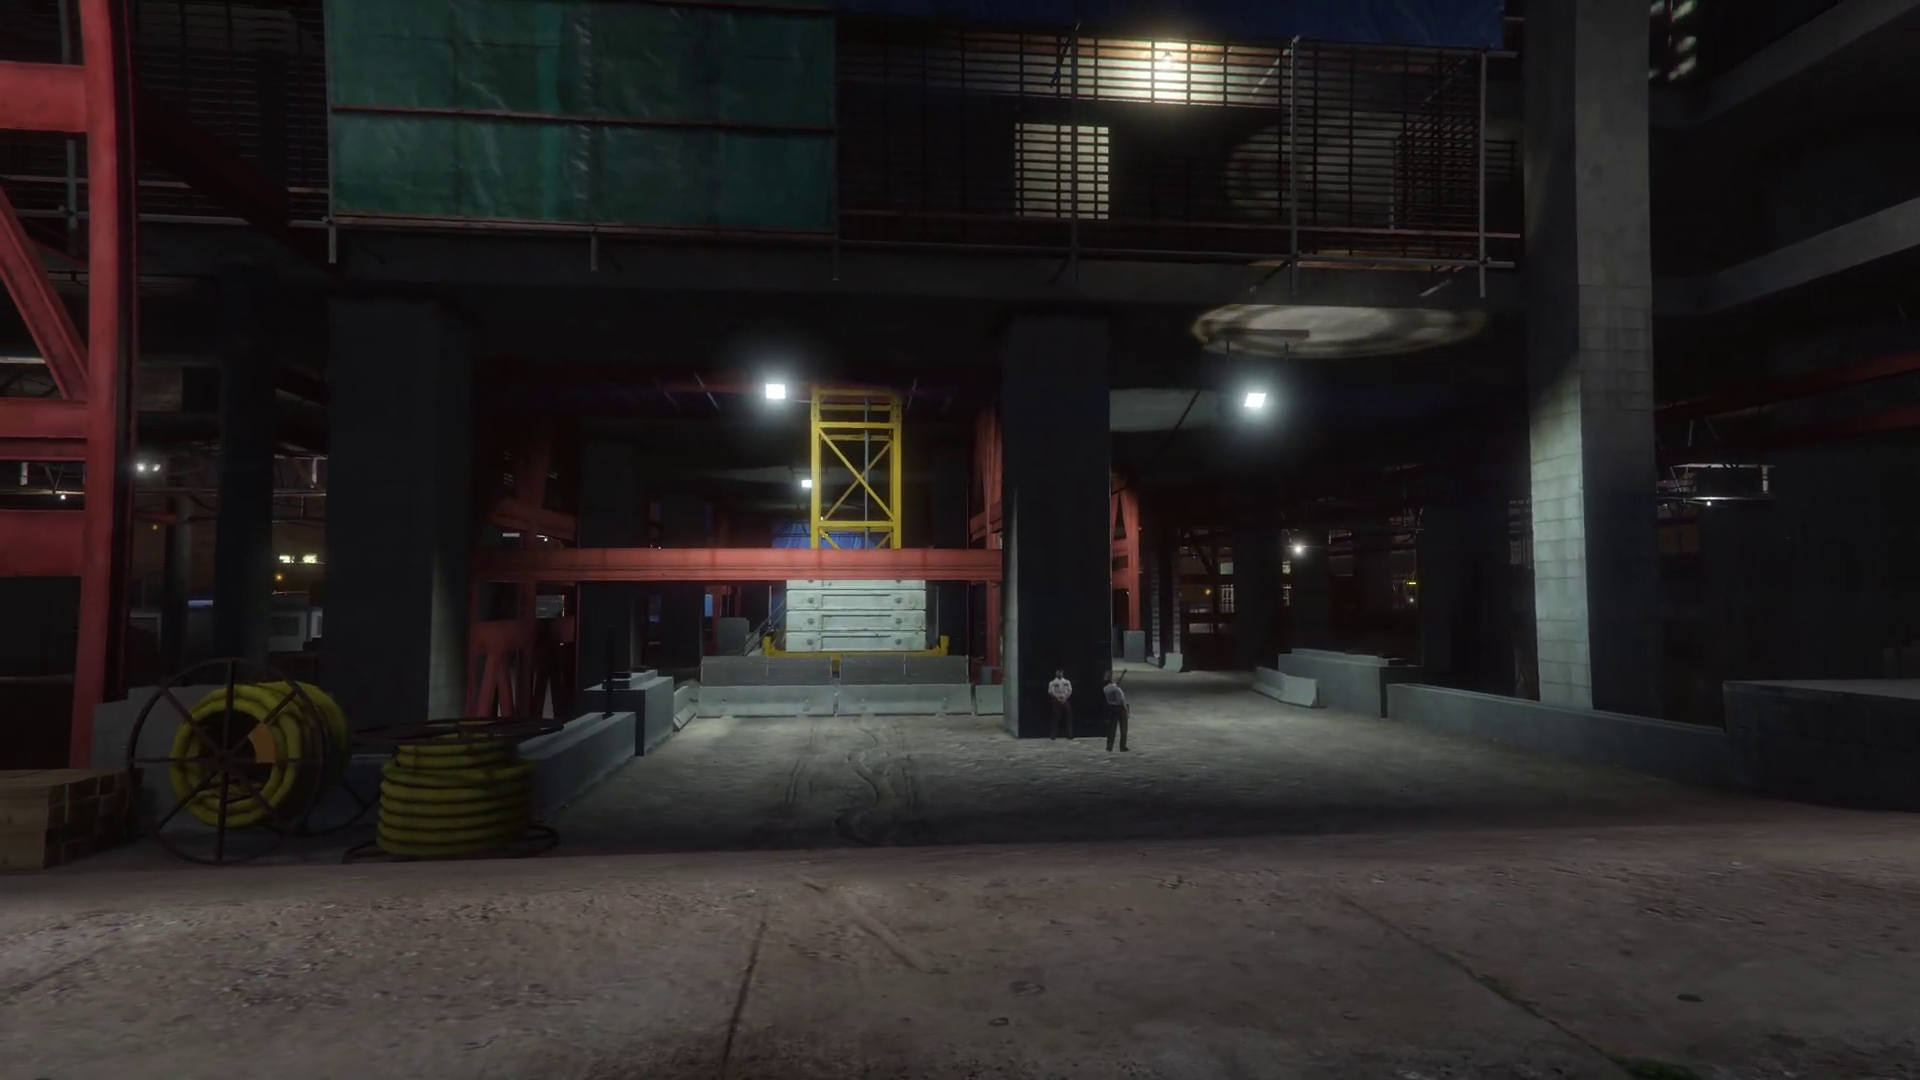person: (1103, 668, 1133, 754), (1048, 669, 1074, 741)
